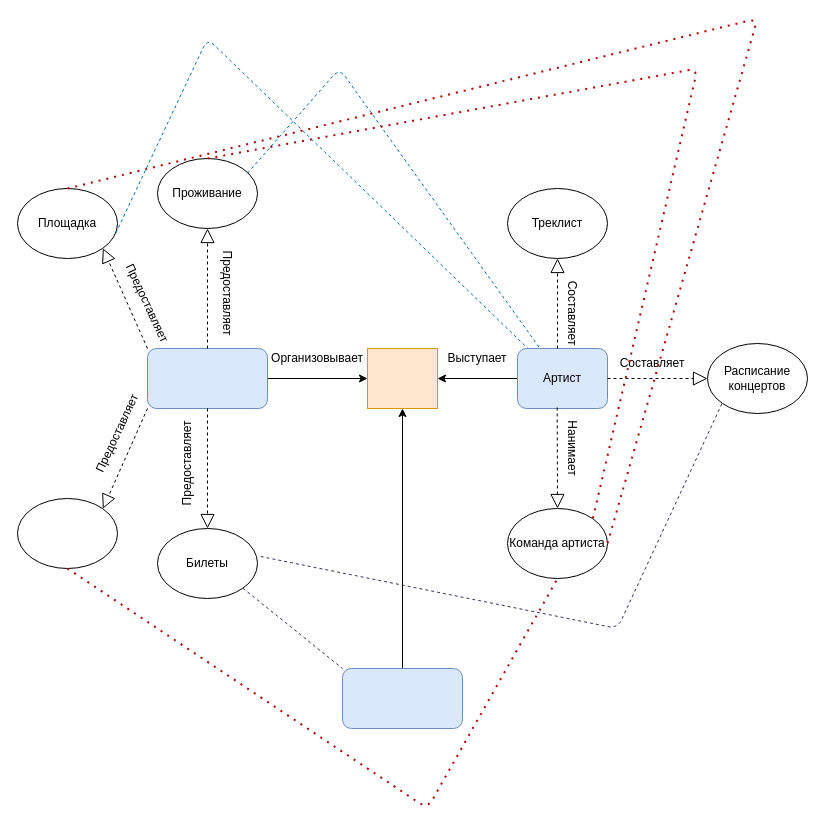
Some shapes in this 825 by 827 pixel diagram are drawn without their labels. Each missing label, with the centre of its shape:
"Аппаратура" belongs at pixel 67 533.
"Аудитория" belongs at pixel 402 698.
"Концерт" belongs at pixel 402 378.
"Организатор" belongs at pixel 207 378.
